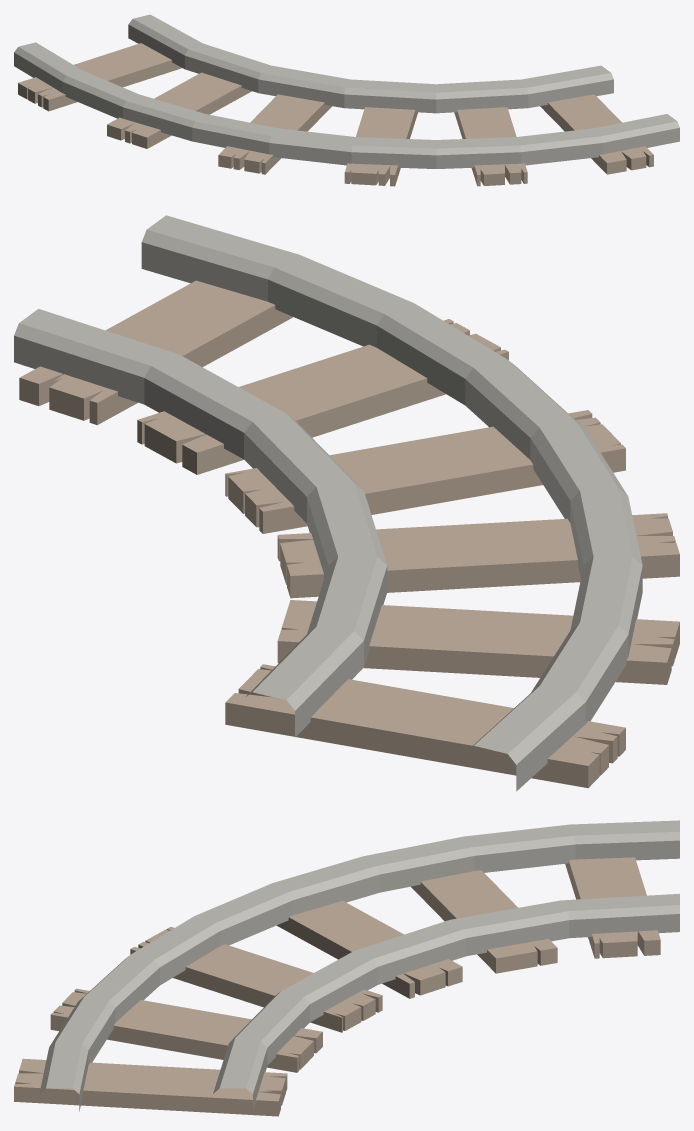
The model's file is Cave_Prop_Railway_Curve_Large.glb.
3 views of the same model, one above another, from view 1: azimuth 30°, elevation 25°; view 2: azimuth 150°, elevation 25°; view 3: azimuth 270°, elevation 25° (orthographic). The views are drawn at different scales.
Parts seen in each view (by area): view 1: Cave_Prop_Railway_Curve_Large; view 2: Cave_Prop_Railway_Curve_Large; view 3: Cave_Prop_Railway_Curve_Large.
Boxes of the visible parts, x1=… form: Cave_Prop_Railway_Curve_Large: x1=14, y1=14, x2=679, y2=186; Cave_Prop_Railway_Curve_Large: x1=14, y1=215, x2=679, y2=791; Cave_Prop_Railway_Curve_Large: x1=14, y1=820, x2=679, y2=1116.
Bounding box in the file's own units: 2.49 × 0.15 × 2.49.
